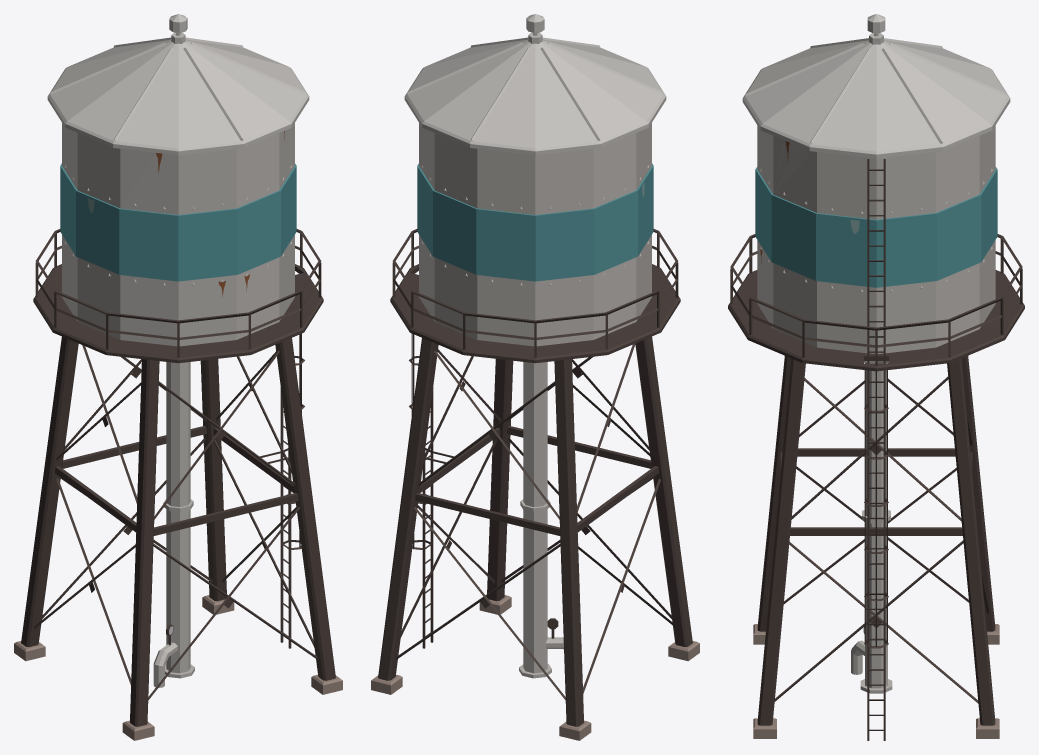
The model's file is water_tower.glb.
3 views of the same model, side by side, from view 1: azimuth 30°, elevation 25°; view 2: azimuth 150°, elevation 25°; view 3: azimuth 270°, elevation 25° (orthographic). The views are drawn at different scales.
Parts seen in each view (by area): view 1: tower; view 2: tower; view 3: tower.
Part boxes in pixels (x1,y1,x2,y2): tower: (14,14,342,740); tower: (371,14,699,740); tower: (728,14,1024,740).
Size of the model in its own units: 8 by 20 by 8.
